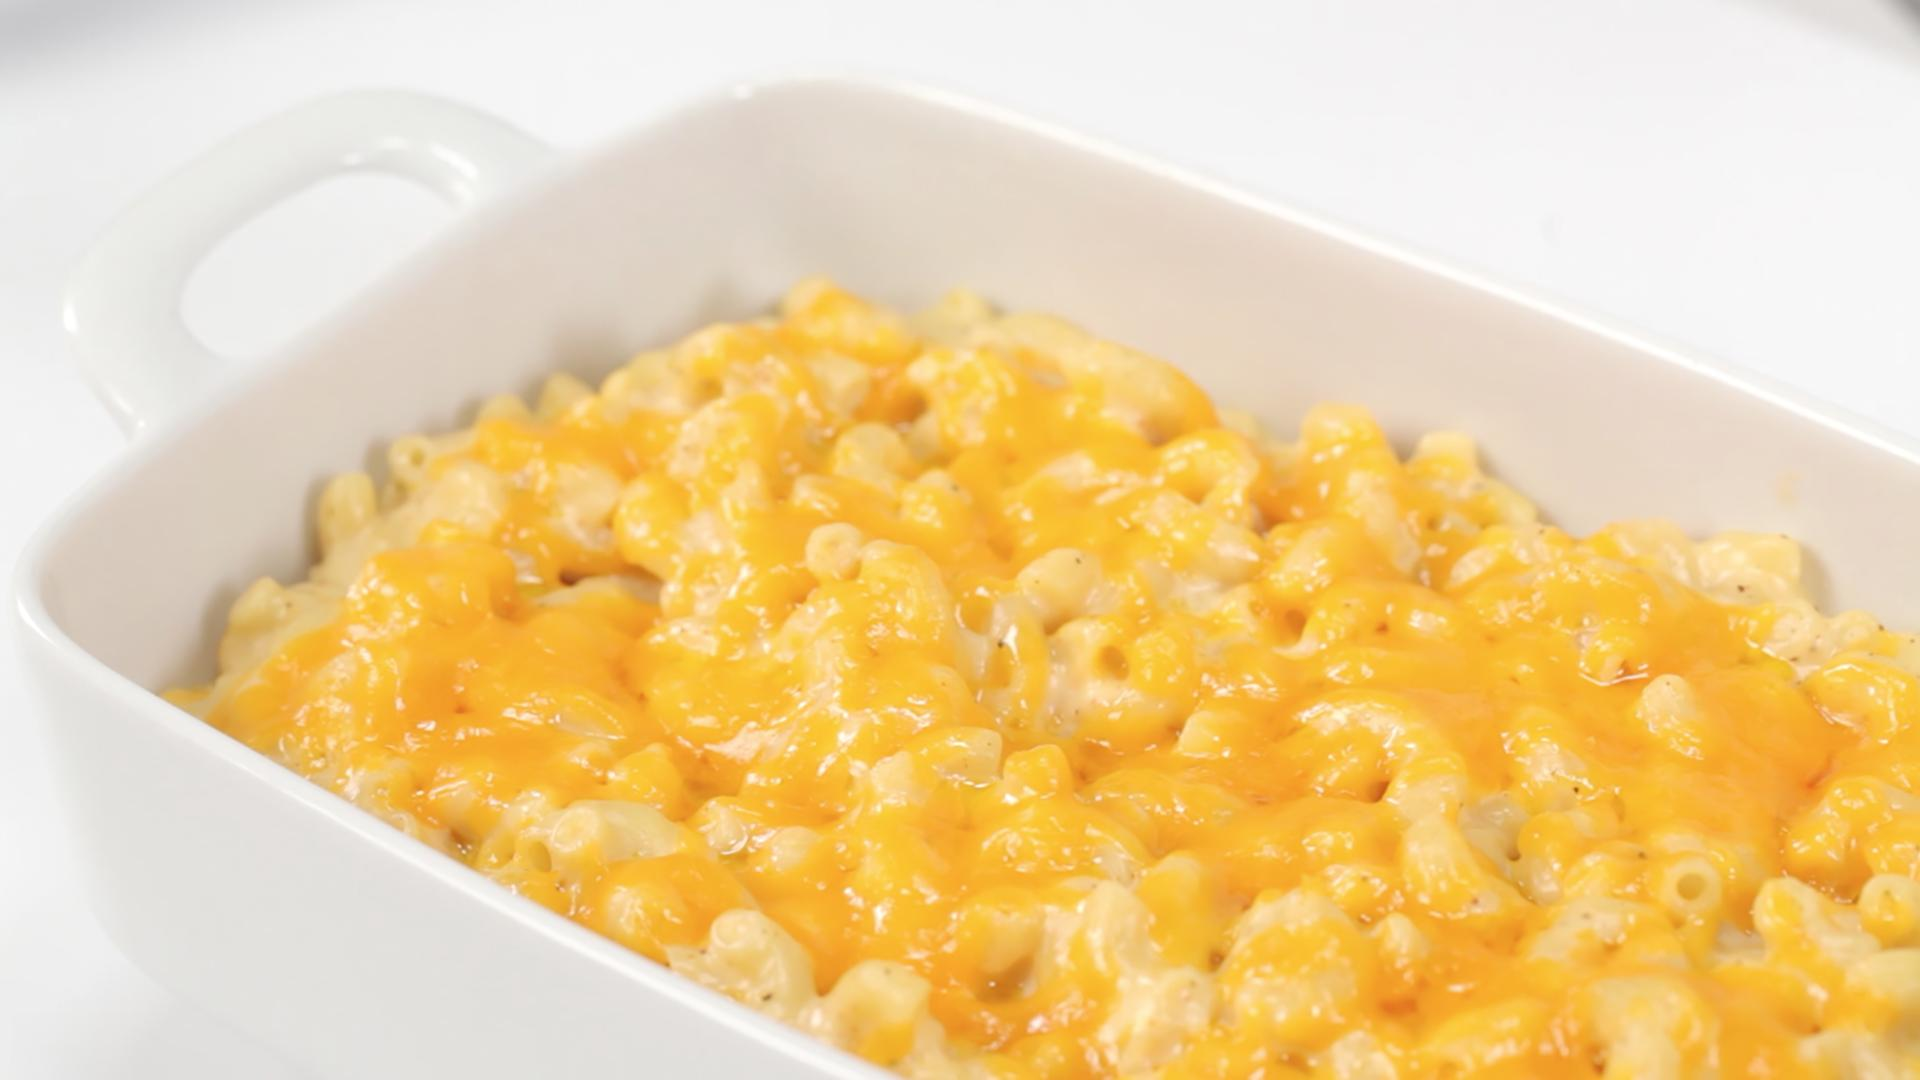macncheese: (182, 257, 1644, 1016)
